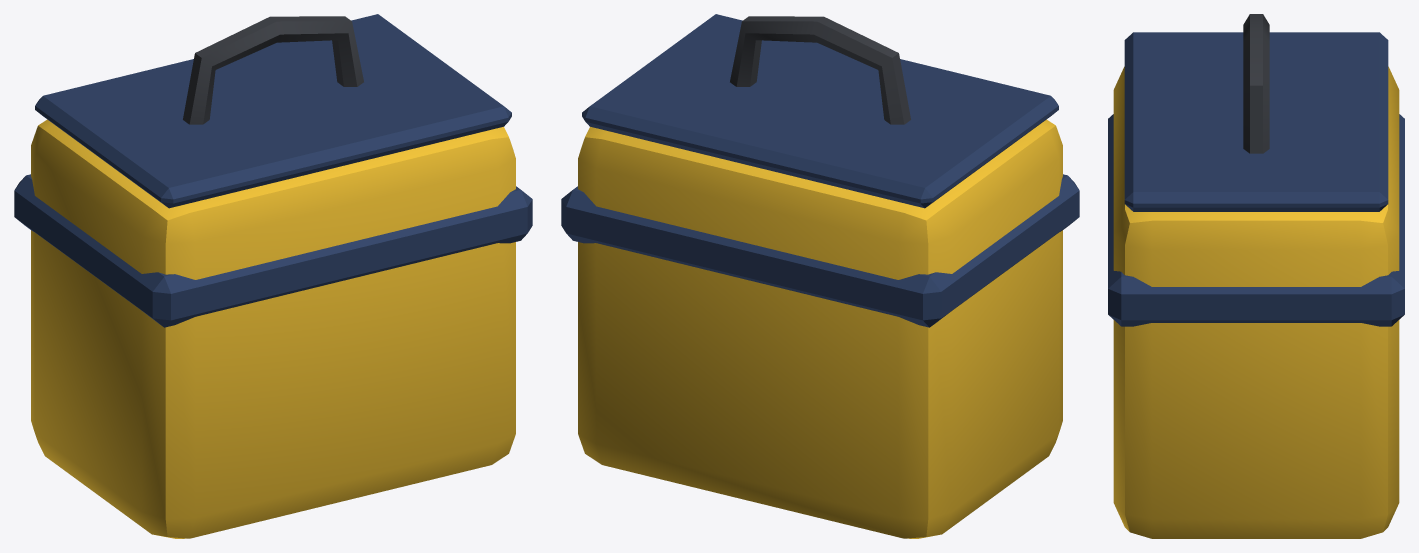
File: delivery_bag.glb
The picture shows the model from 3 angles, left to right: view 1: azimuth 30°, elevation 25°; view 2: azimuth 150°, elevation 25°; view 3: azimuth 270°, elevation 25°; orthographic projection. The views are drawn at different scales.
Parts seen in each view (by area): view 1: delivery_bag; view 2: delivery_bag; view 3: delivery_bag.
Part boxes in pixels (x1,y1,x2,y2): delivery_bag: [14, 14, 532, 538]; delivery_bag: [561, 14, 1079, 538]; delivery_bag: [1108, 14, 1404, 538].
Bounding box in the file's own units: 0.39 × 0.4354 × 0.27.
